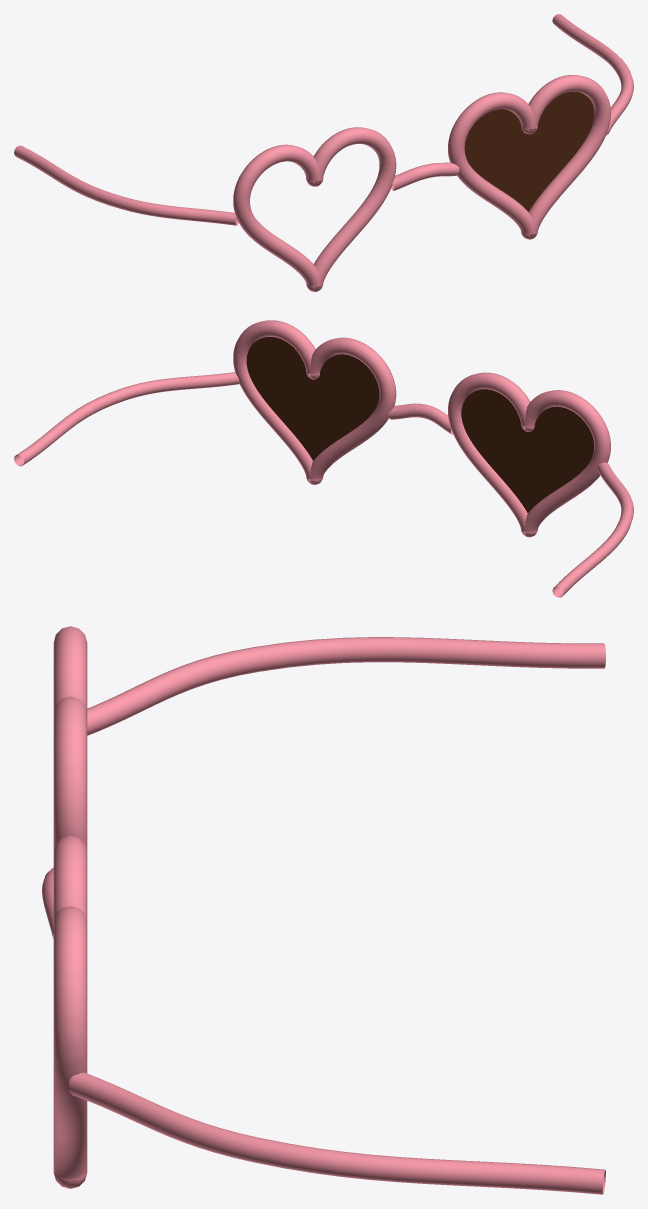
The model's file is heart_sunglasses.glb.
3 views of the same model, one above another, from view 1: azimuth 30°, elevation 25°; view 2: azimuth 150°, elevation 25°; view 3: azimuth 270°, elevation 25° (orthographic). The views are drawn at different scales.
Visible parts, largest first — view 1: tinted_lens.003, frame.004, frame.005, temple.004, temple.005, nose_bridge.002; view 2: tinted_lens.003, tinted_lens.002, frame.005, frame.004, temple.005, temple.004, nose_bridge.002; view 3: temple.005, temple.004, frame.005, frame.004.
Part boxes in pixels (box(x1,y1,x2,y2)): tinted_lens.003: box(464, 91, 594, 211); frame.004: box(233, 127, 396, 291); frame.005: box(448, 75, 610, 239); temple.004: box(14, 145, 238, 225); temple.005: box(552, 14, 633, 135); nose_bridge.002: box(391, 162, 459, 190); tinted_lens.003: box(246, 337, 379, 460); tinted_lens.002: box(461, 389, 593, 512); frame.005: box(233, 320, 396, 484); frame.004: box(448, 372, 610, 537); temple.005: box(14, 372, 239, 466); temple.004: box(552, 462, 633, 597); nose_bridge.002: box(388, 403, 452, 434); temple.005: box(68, 1072, 605, 1194); temple.004: box(87, 637, 605, 735); frame.005: box(53, 836, 87, 1188); frame.004: box(53, 626, 87, 851).
Bounding box in the file's own units: 1.2 × 0.3213 × 0.5345.
